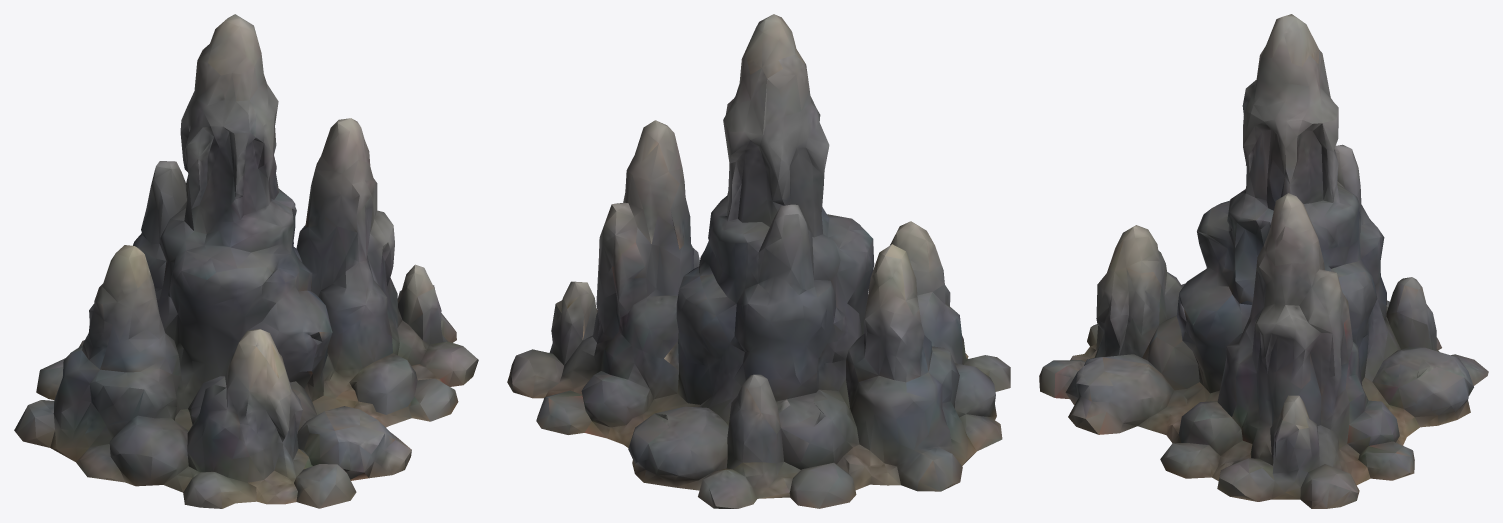
Rendered from estalagmitas_b_3000.glb.
3 views of the same model, side by side, from view 1: azimuth 30°, elevation 25°; view 2: azimuth 150°, elevation 25°; view 3: azimuth 270°, elevation 25° (orthographic). The views are drawn at different scales.
Parts seen in each view (by area): view 1: estalagmitas_b_malla; view 2: estalagmitas_b_malla; view 3: estalagmitas_b_malla.
Part boxes in pixels (x1,y1,x2,y2): estalagmitas_b_malla: (14,14,478,508); estalagmitas_b_malla: (507,14,1010,508); estalagmitas_b_malla: (1039,14,1488,508).
Size of the model in its own units: 0.4098 by 0.3534 by 0.3771.
1 material, 1 textured.
